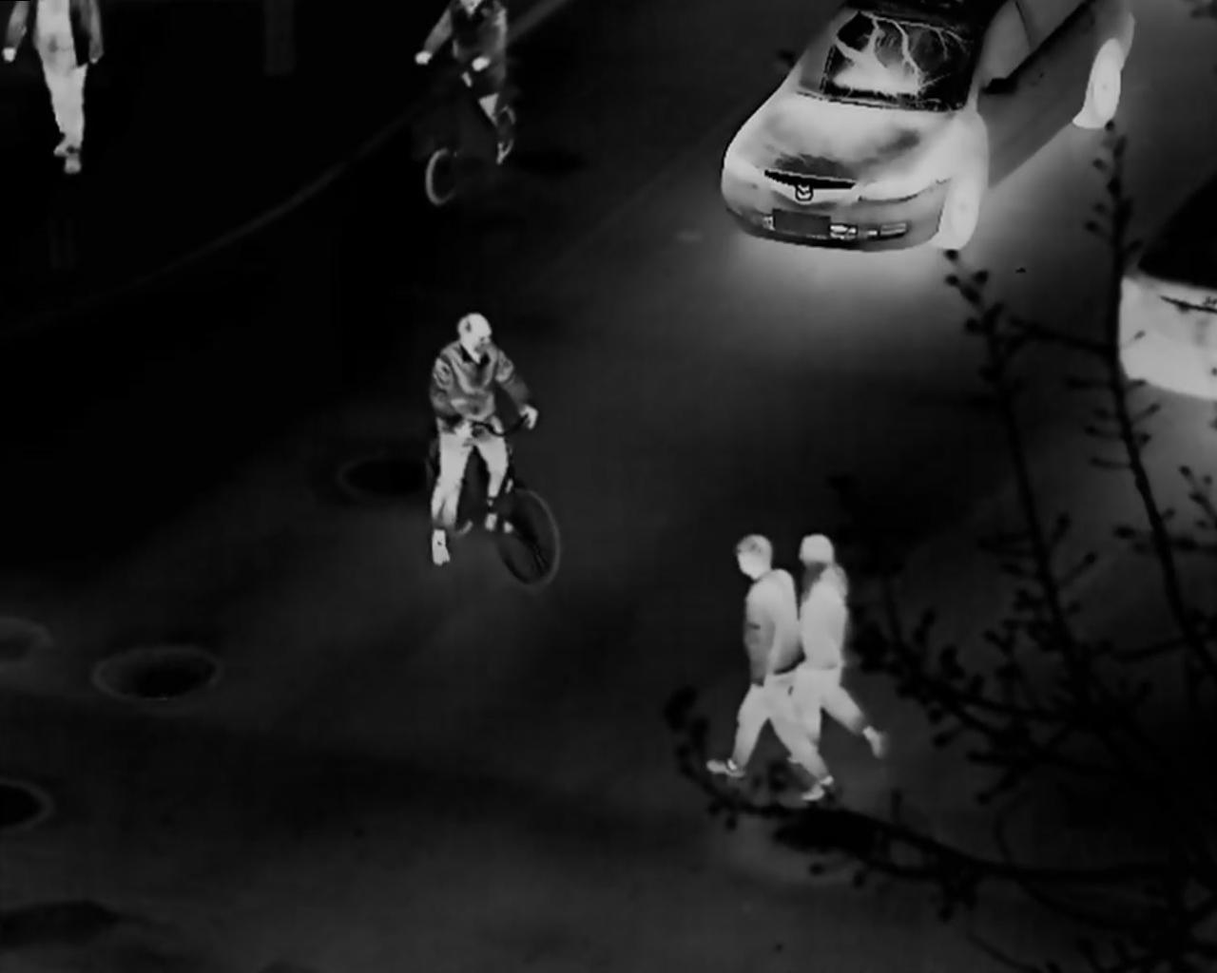person: (700, 530, 838, 806), (427, 306, 535, 570), (795, 525, 890, 765), (3, 3, 105, 174), (413, 3, 508, 130)
